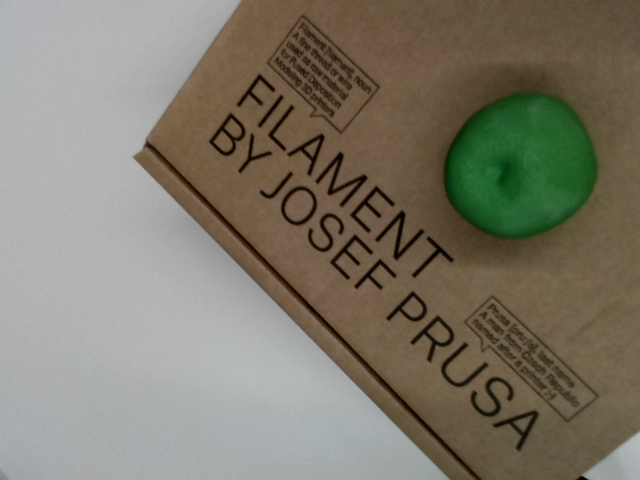green apple: (418, 69, 619, 264)
